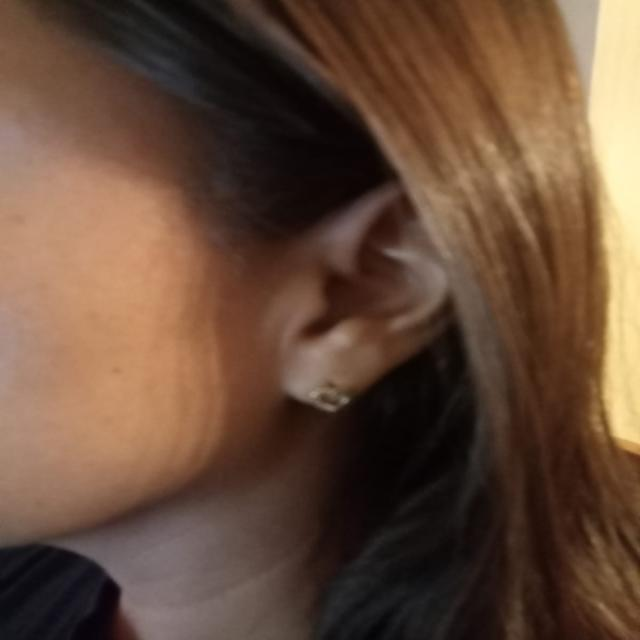ear: (282, 182, 448, 412)
